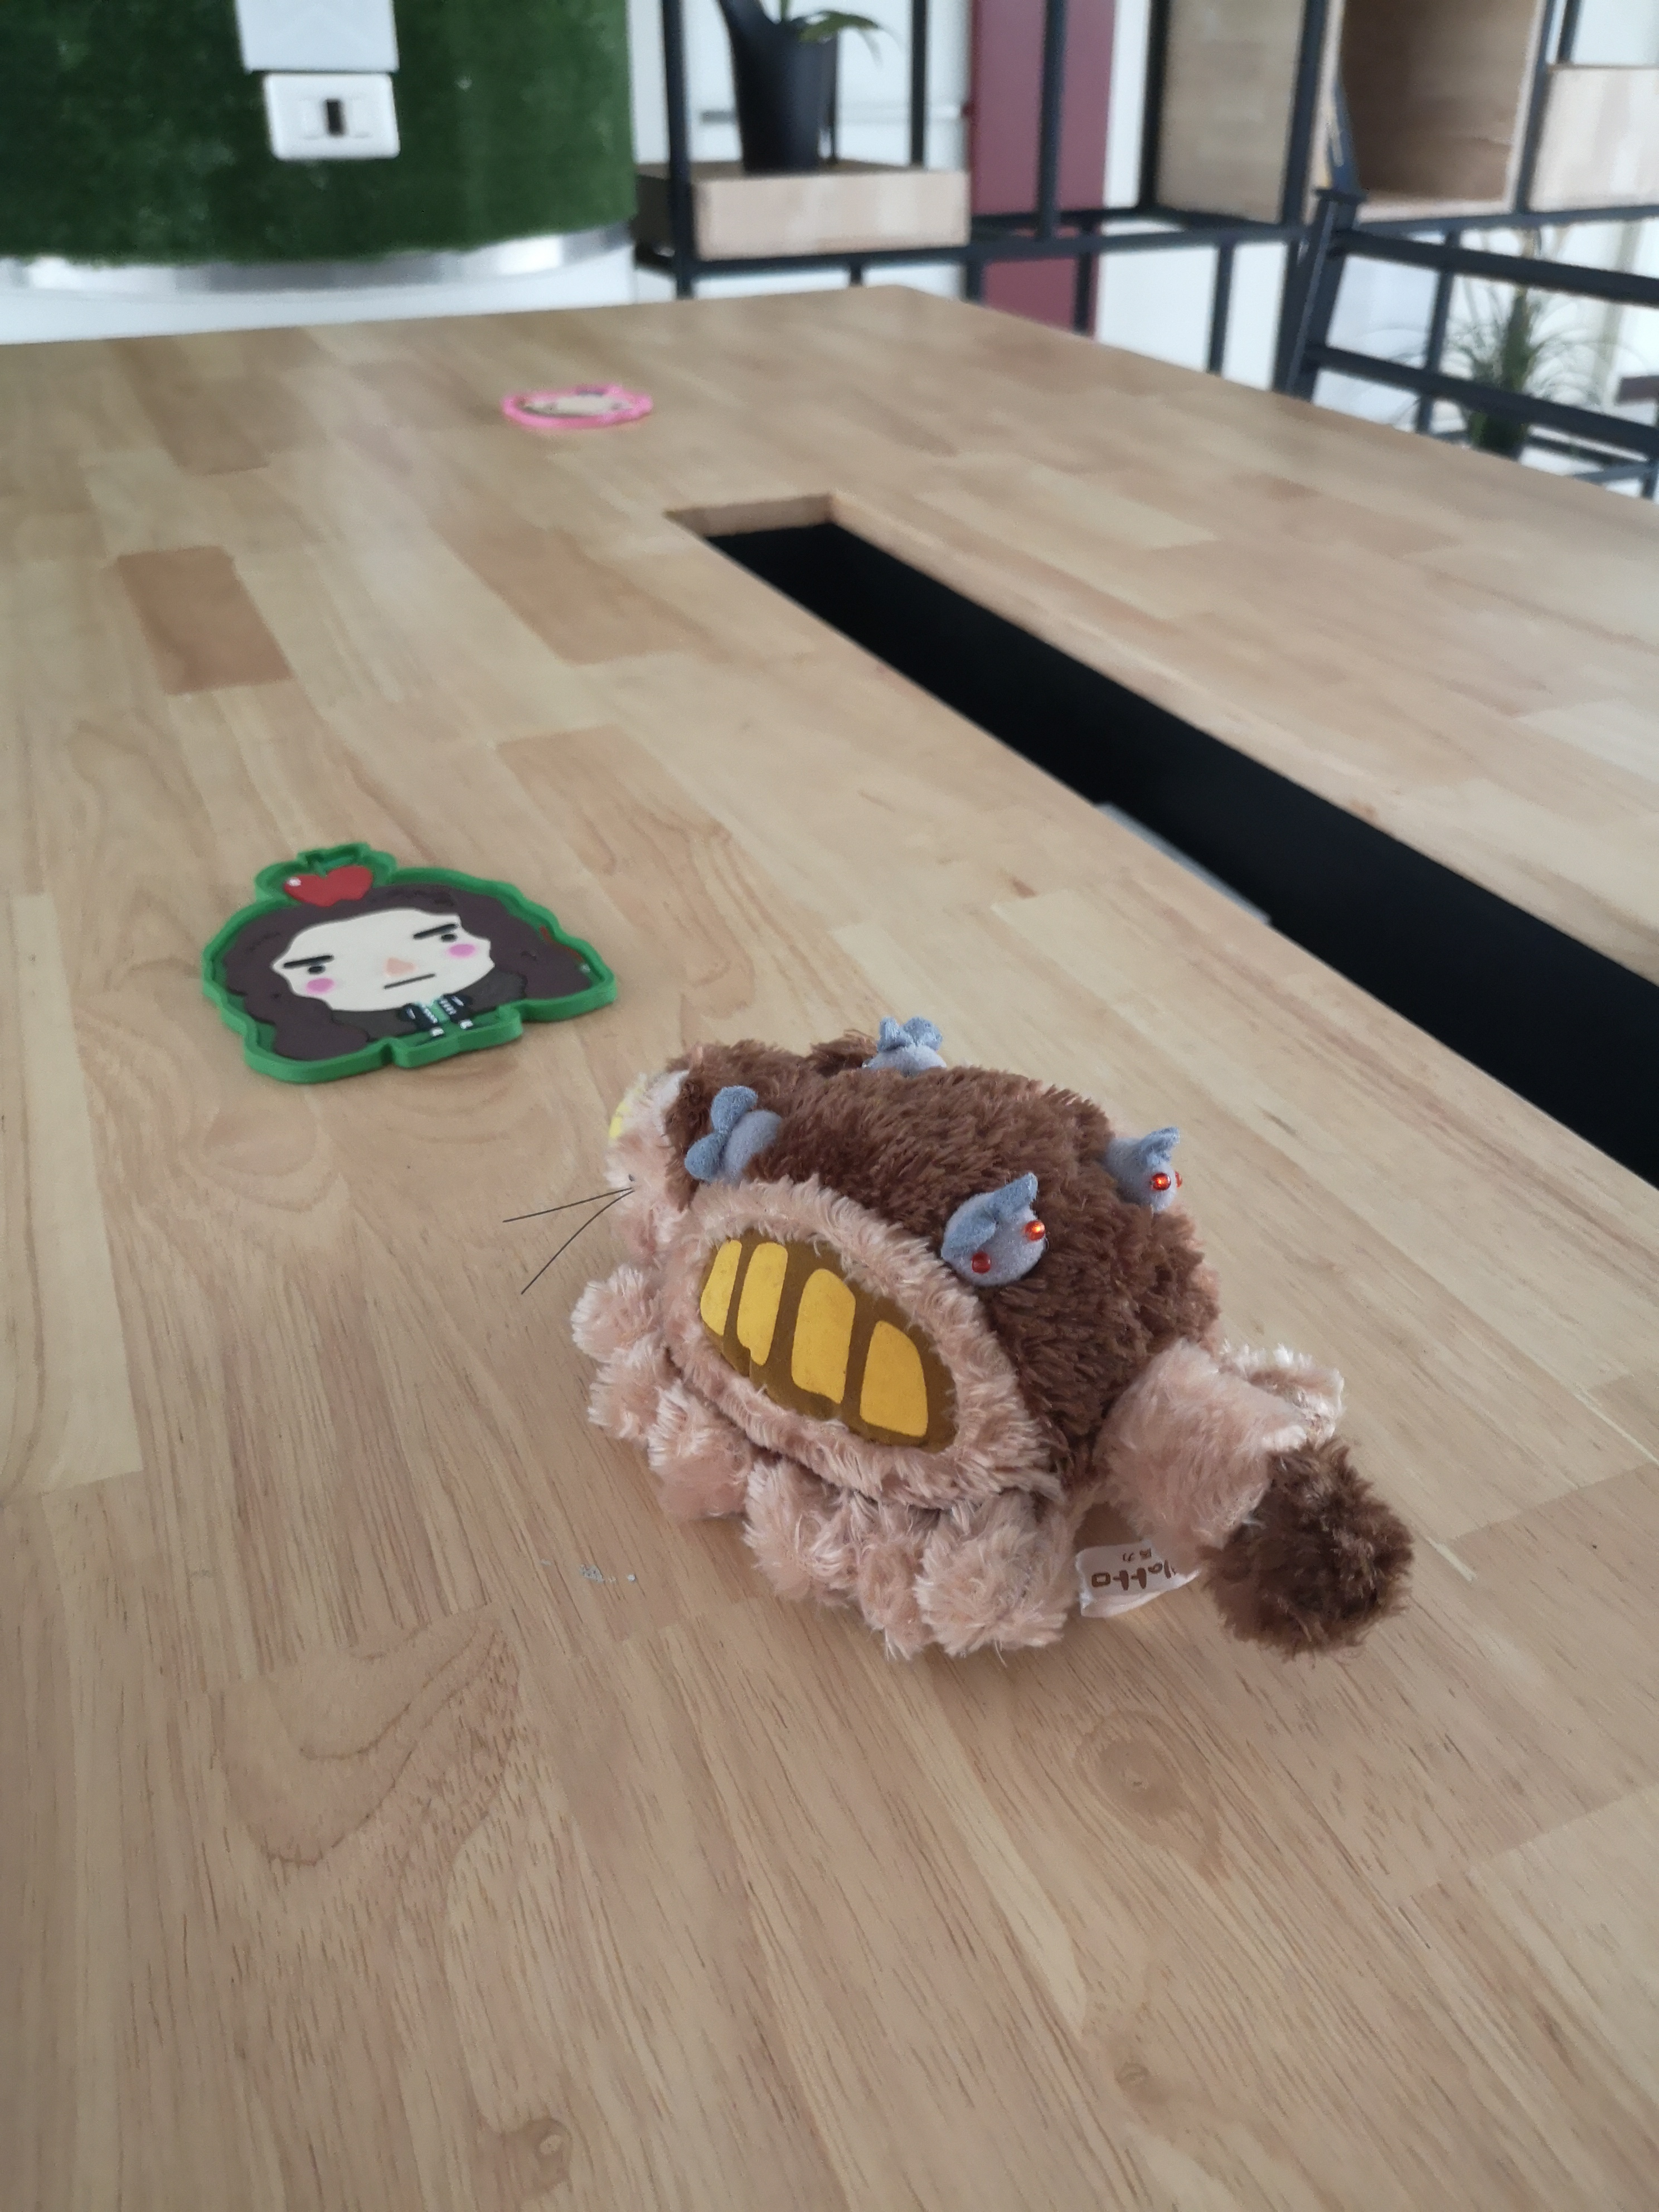nekobus: (502, 1010, 1439, 1677)
